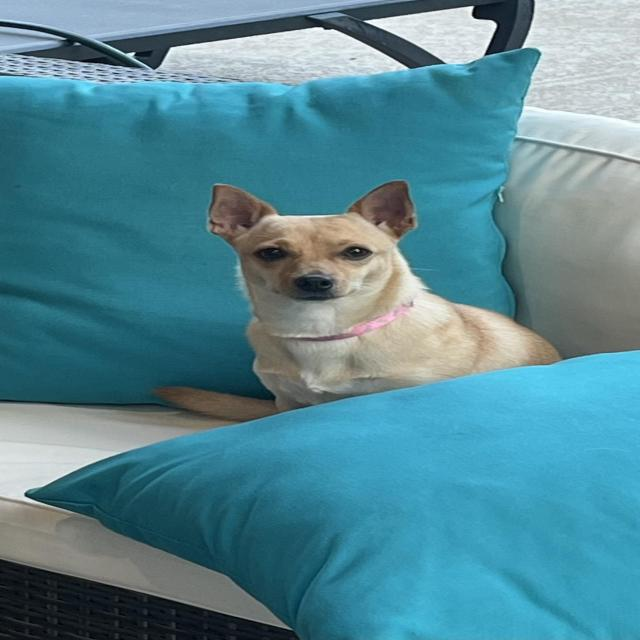chihuahua_dog: (190, 170, 449, 336)
